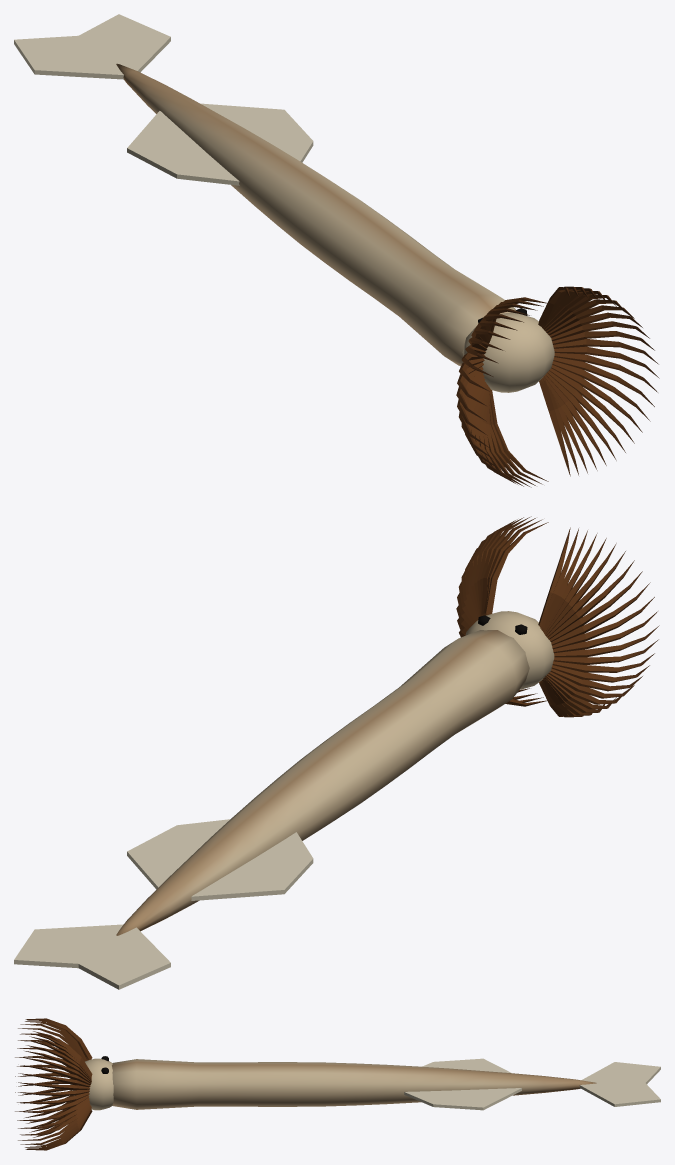
Rendered from Capinatator.fbx.
3 renders of one model, top to bottom at view 1: azimuth 30°, elevation 25°; view 2: azimuth 150°, elevation 25°; view 3: azimuth 270°, elevation 25°, orthographic. The views are drawn at different scales.
Parts seen in each view (by area): view 1: Capinatator; view 2: Capinatator; view 3: Capinatator.
Part boxes in pixels (x1,y1,x2,y2): Capinatator: [14, 14, 659, 487]; Capinatator: [14, 516, 659, 989]; Capinatator: [15, 1018, 660, 1150].
Size of the model in its own units: 0.3449 by 0.3256 by 1.68.
